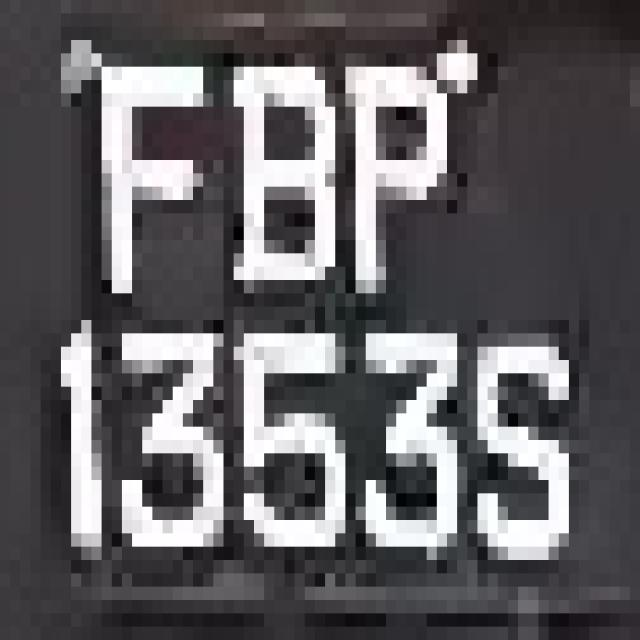1: (40, 280, 111, 600)
3: (92, 280, 214, 600), (336, 306, 468, 586)
5: (183, 280, 366, 600)
B: (224, 54, 335, 374)
F: (61, 13, 244, 320)
P: (305, 27, 457, 266)
S: (457, 267, 589, 600)
